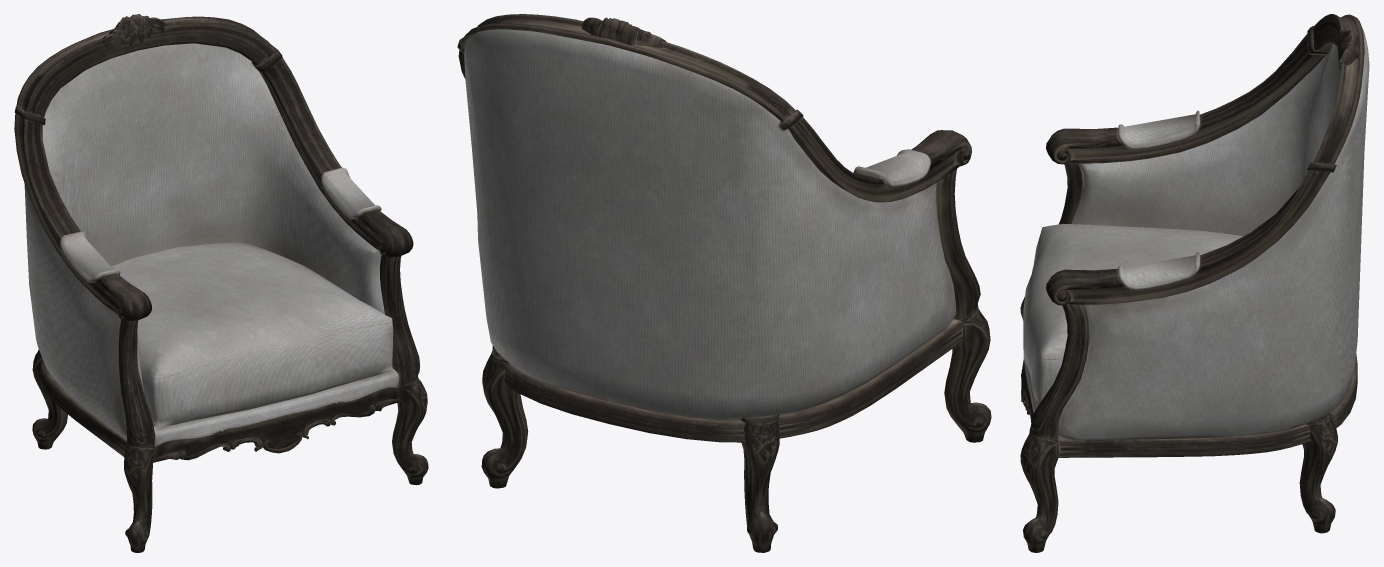
The model's file is ArmChair_01.glb.
3 renders of one model, left to right at view 1: azimuth 30°, elevation 25°; view 2: azimuth 150°, elevation 25°; view 3: azimuth 270°, elevation 25°, orthographic. The views are drawn at different scales.
Parts seen in each view (by area): view 1: ArmChair_01; view 2: ArmChair_01; view 3: ArmChair_01.
Part boxes in pixels (<box>): ArmChair_01: <box>14,14,428,552</box>; ArmChair_01: <box>457,14,991,552</box>; ArmChair_01: <box>1020,14,1369,552</box>.
Size of the model in its own units: 0.8484 by 1.07 by 0.7658.
Materials: 1 (1 with a texture image).
